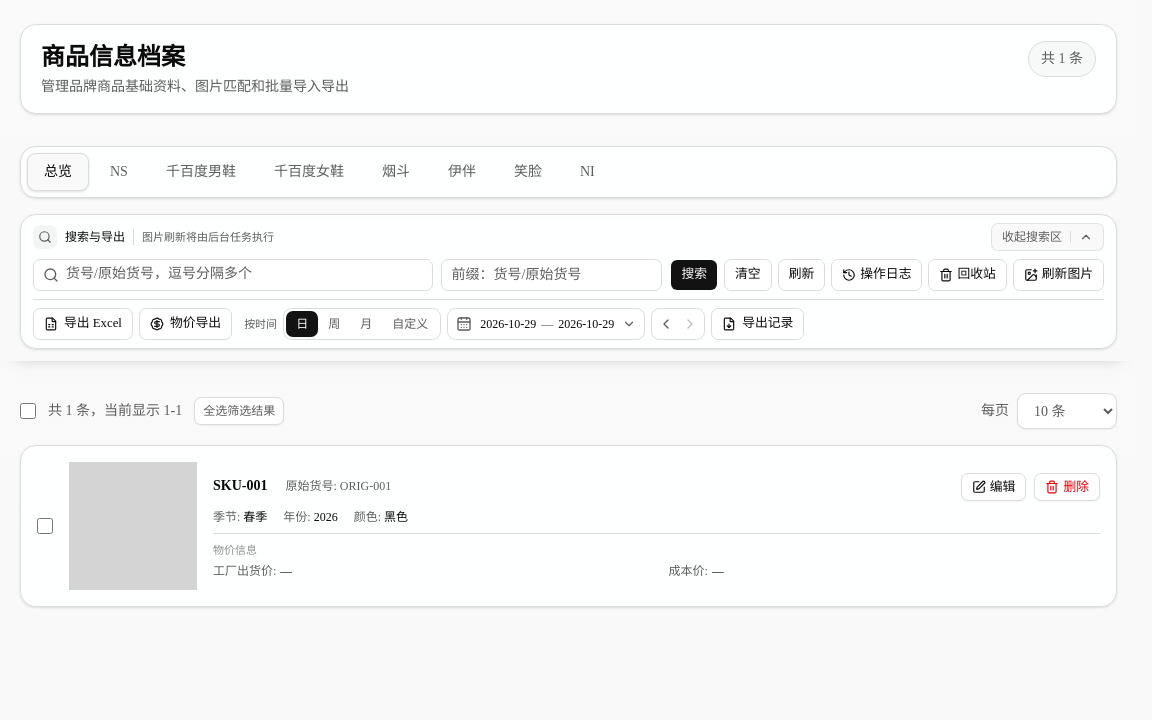
Test: ProductAdminPage › opens edit mode from the total overview using the item's brand
Expected: the button with test id "card-title-1" is shown, [213, 476, 286, 496]
Click the tab "总览": (58, 172) [27, 153, 89, 191]
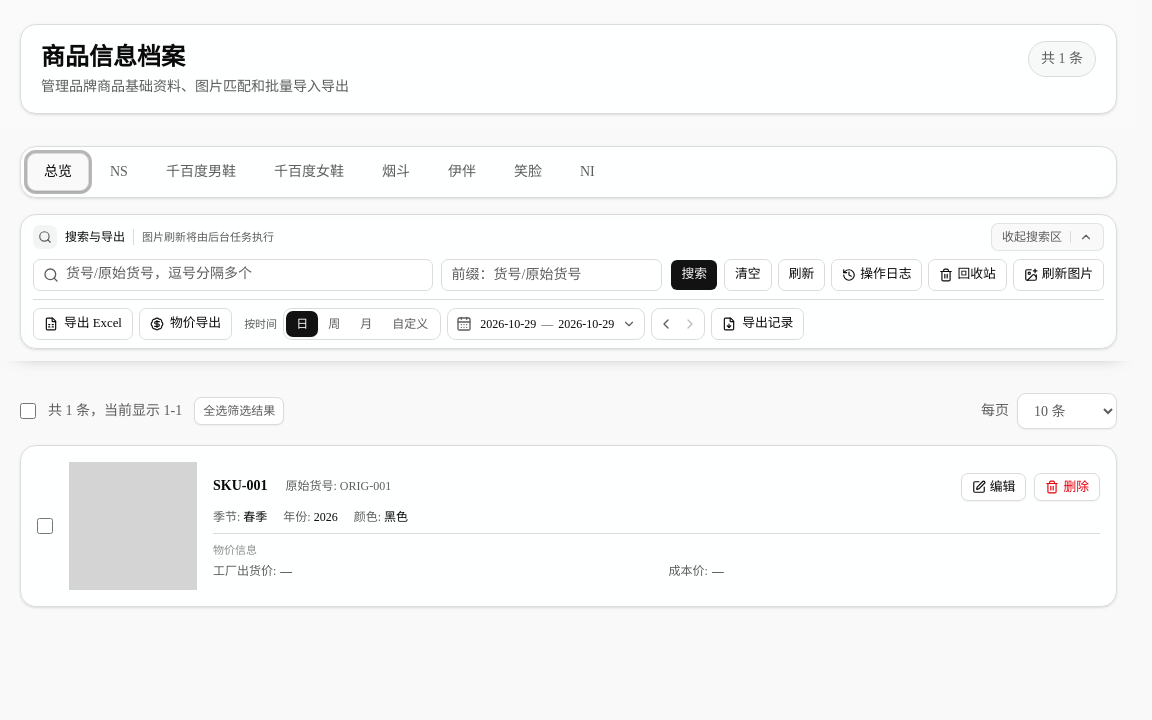
Click the button "编辑": (994, 487) [961, 473, 1026, 501]
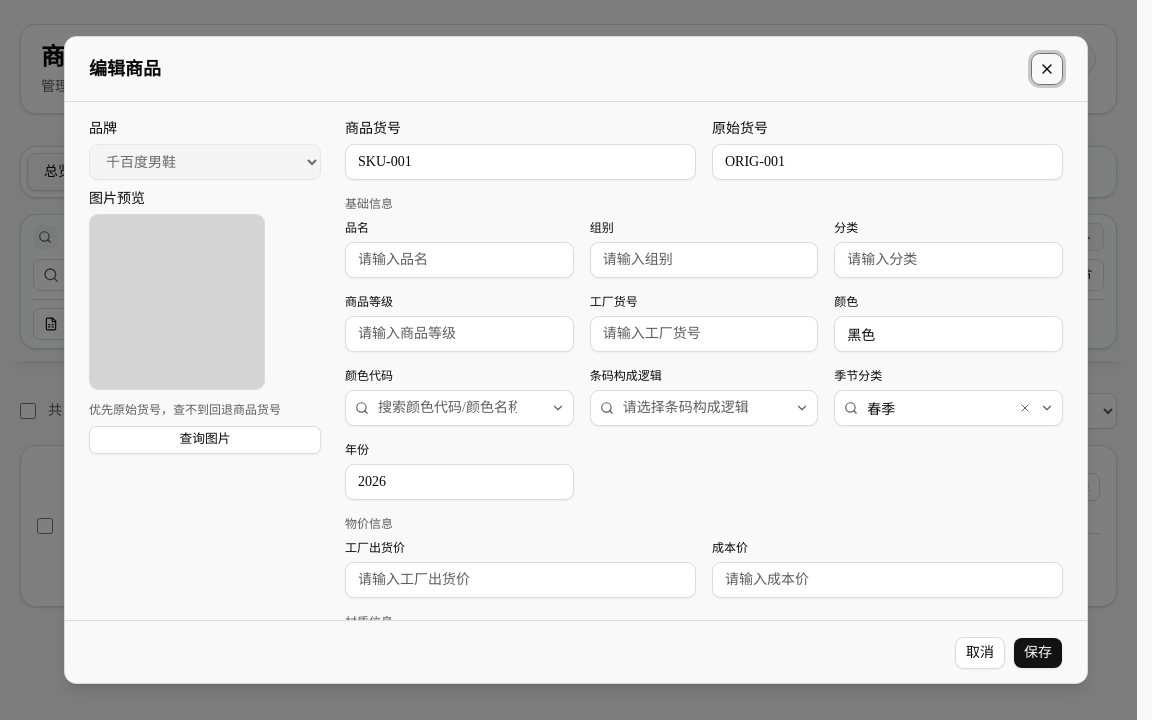
Now the heading "编辑商品" is shown, box [89, 55, 161, 83]
